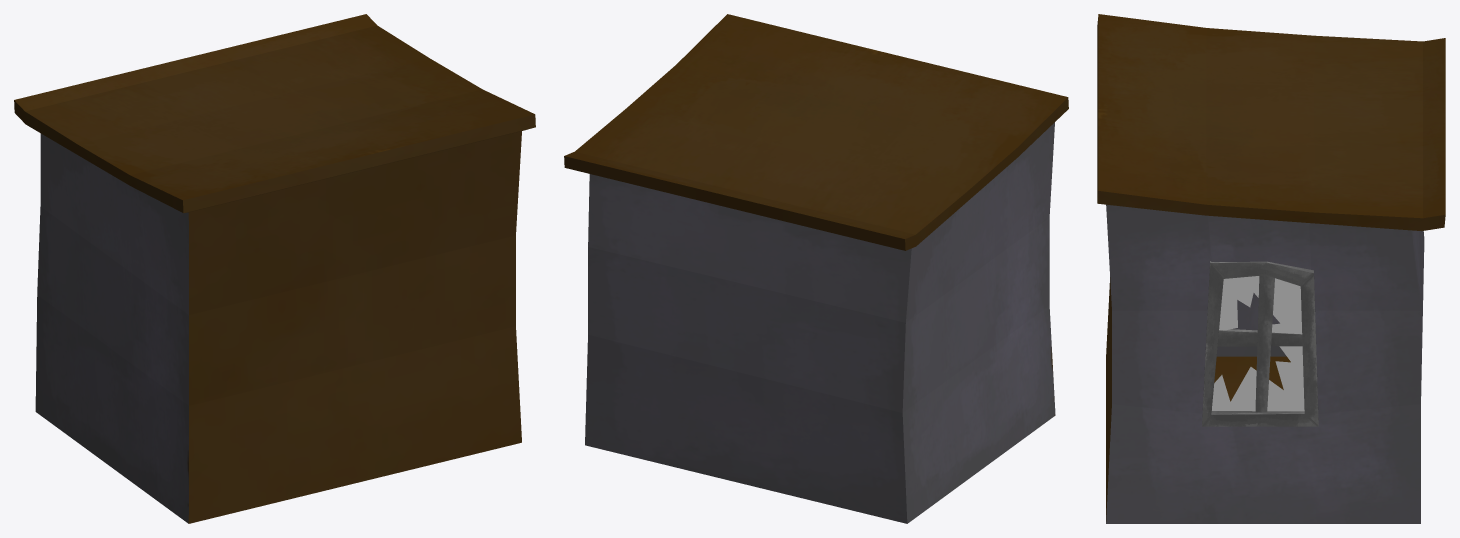
The model's file is house-base-1-dom.fbx.
3 renders of one model, left to right at view 1: azimuth 30°, elevation 25°; view 2: azimuth 150°, elevation 25°; view 3: azimuth 270°, elevation 25°, orthographic. The views are drawn at different scales.
Visible parts, largest first — view 1: Cube.023; view 2: Cube.023; view 3: Cube.023.
Part boxes in pixels (x1=…): Cube.023: x1=14, y1=14, x2=535, y2=523; Cube.023: x1=564, y1=14, x2=1068, y2=523; Cube.023: x1=1097, y1=14, x2=1445, y2=523.
Bounding box in the file's own units: 142 × 127 × 118.
